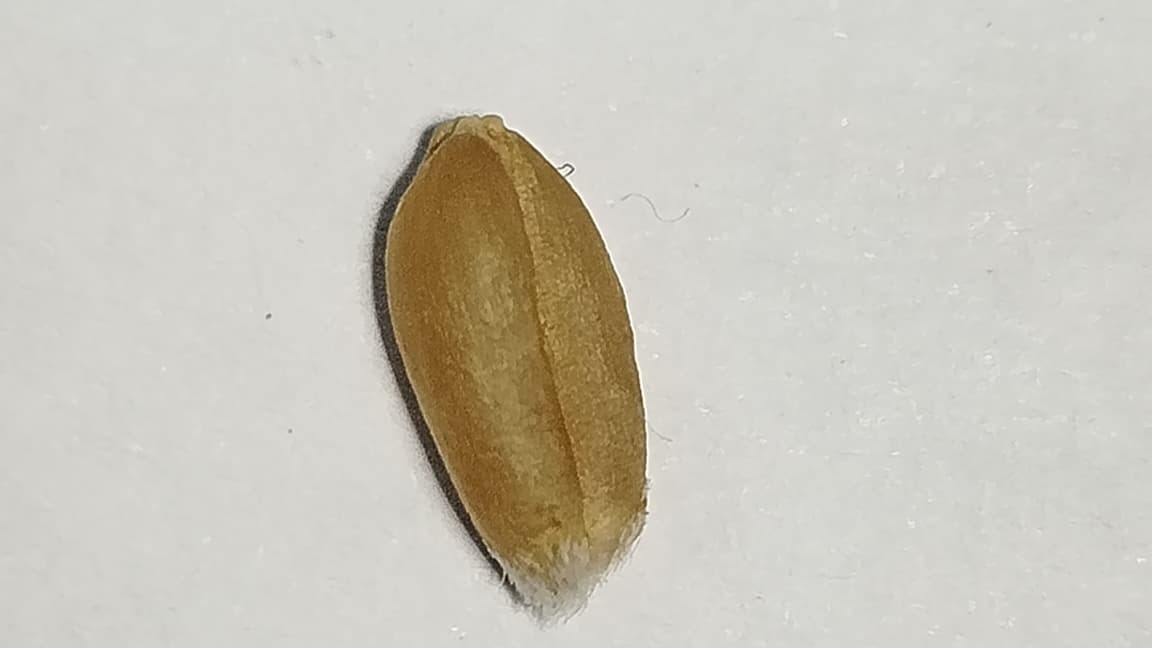healthy: (384, 117, 646, 590)
